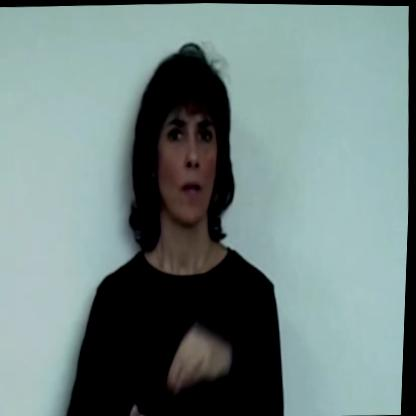Expensive: (117, 282, 253, 416)
